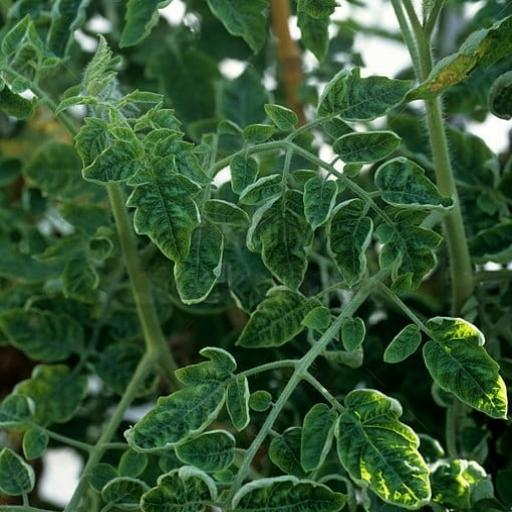disease_tomato: (122, 342, 250, 452), (336, 390, 434, 512), (420, 310, 512, 421), (170, 194, 254, 314), (126, 150, 204, 268), (243, 188, 319, 292), (314, 64, 420, 126), (374, 204, 446, 286), (236, 281, 316, 351), (324, 198, 379, 292), (0, 304, 84, 364), (373, 156, 458, 214), (224, 477, 352, 512), (133, 463, 218, 512), (174, 427, 240, 475), (296, 402, 336, 476), (328, 129, 404, 167), (82, 138, 142, 186), (302, 174, 340, 233), (74, 113, 112, 168), (380, 318, 422, 364)
